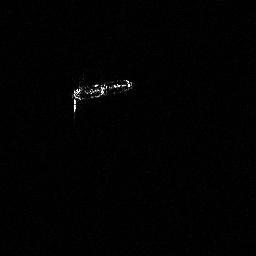ship: (69, 75, 135, 117)
